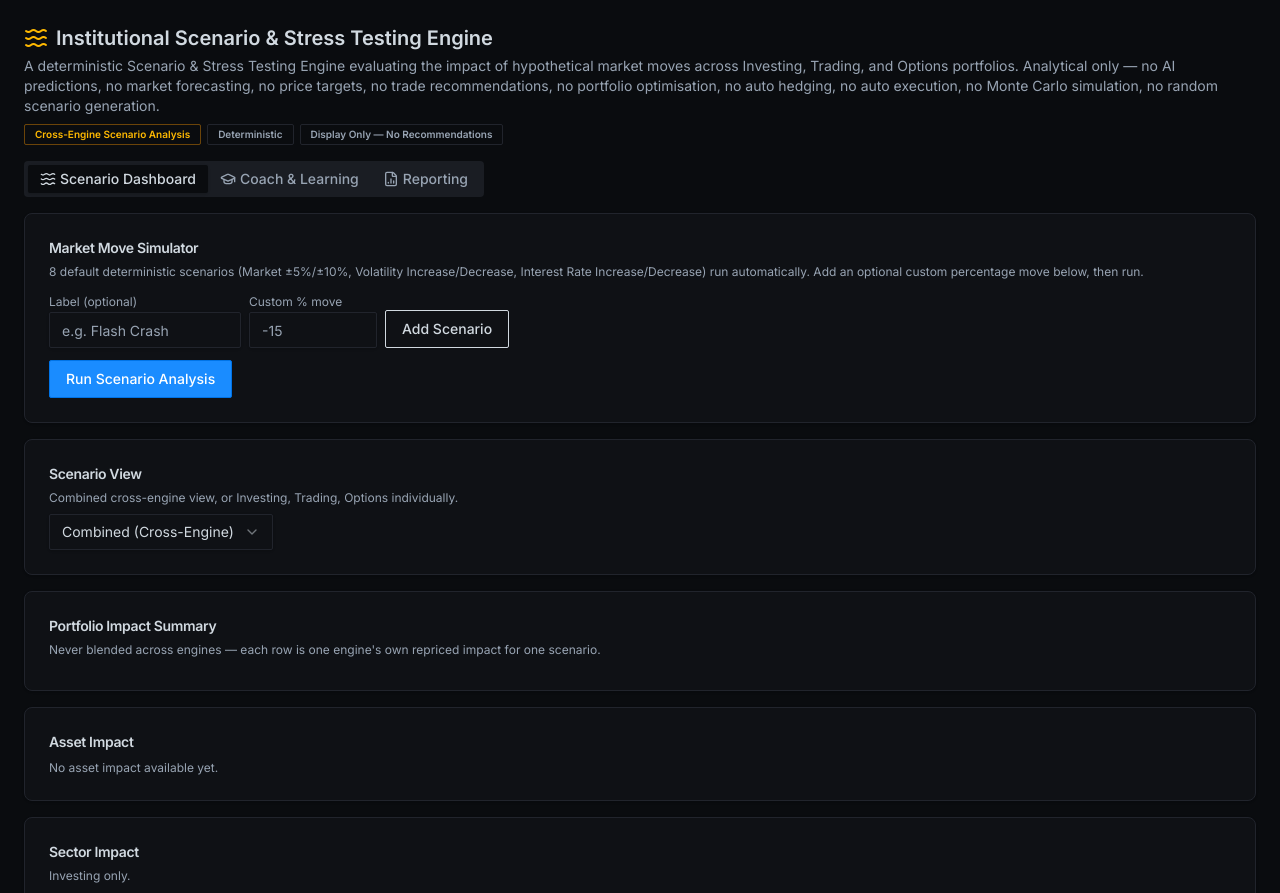
Test: ScenarioEngine › switches to the Investing view and shows real, honestly-labeled scenario results, including an unavailable volatility scenario
The width and height of the screenshot is (1280, 893).
Click the dropdown with test id "scenario-view-select": {"x": 161, "y": 532} [49, 514, 273, 550]
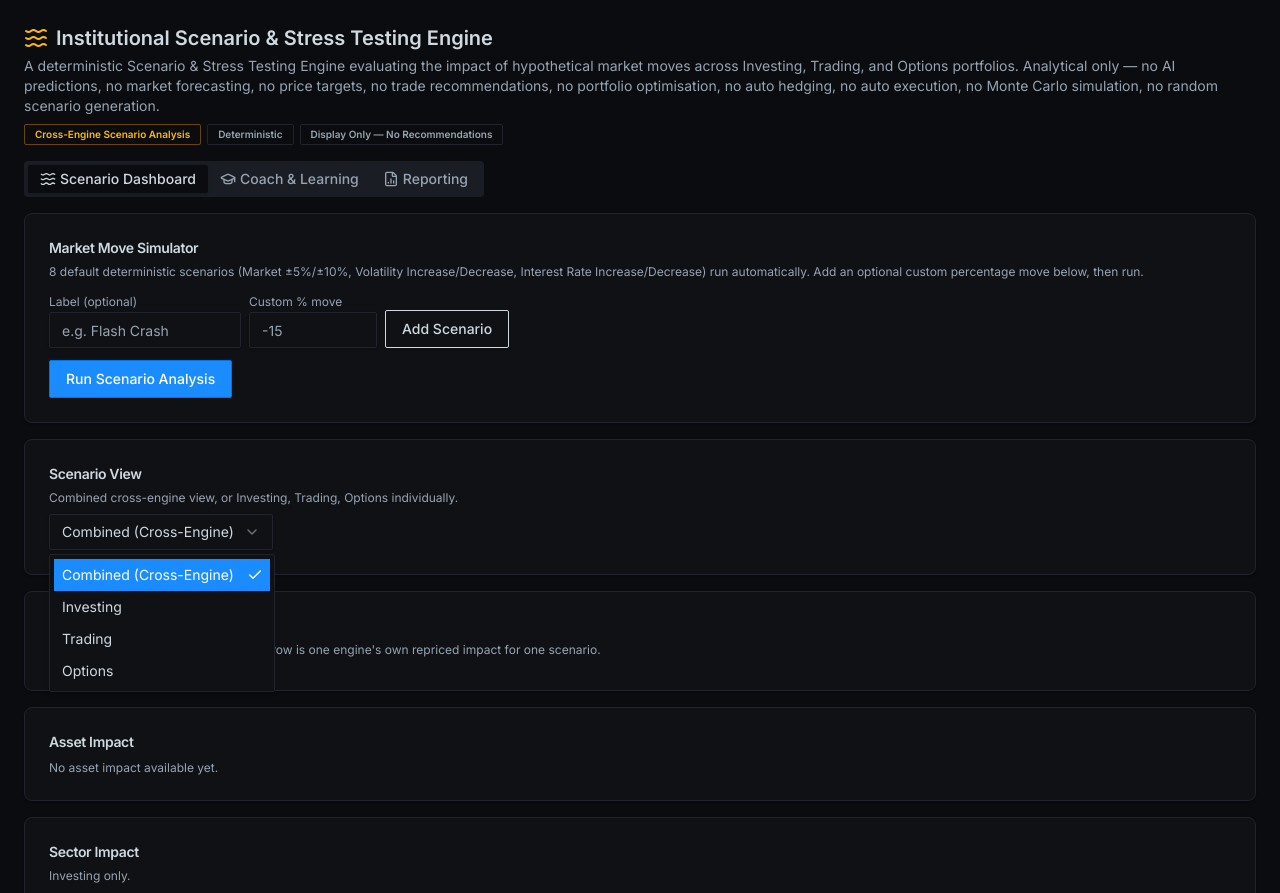
Click the option with test id "scenario-view-option-investing": {"x": 92, "y": 606} [62, 598, 122, 615]
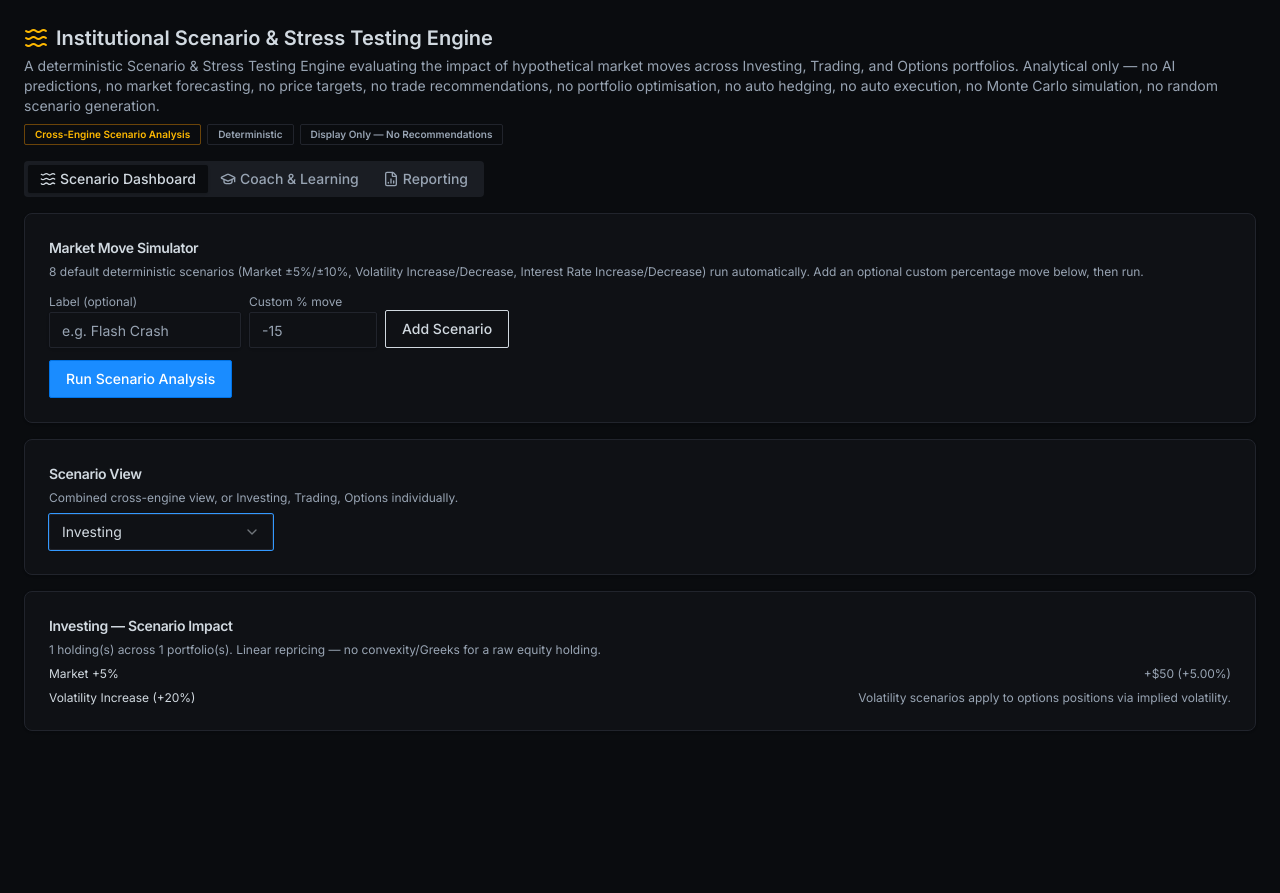
Expected: the element with test id "panel-se-investing" is shown, [24, 591, 1256, 731]
Expected: the element with test id "investing-scenario-market_up_5" shows "+$50", [1144, 666, 1231, 681]
Expected: the element with test id "investing-scenario-volatility_up" shows "implied volatility", [858, 690, 1231, 705]
